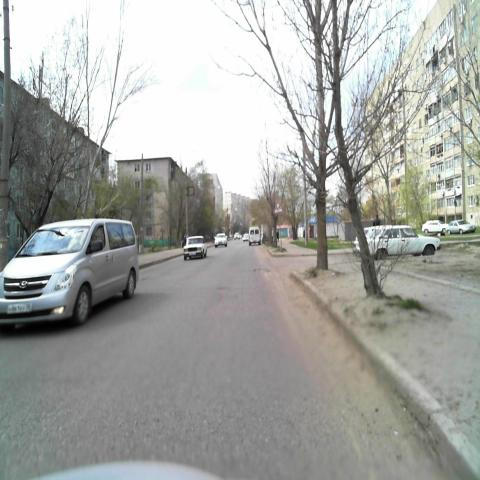1_23: (272, 201, 284, 213)
